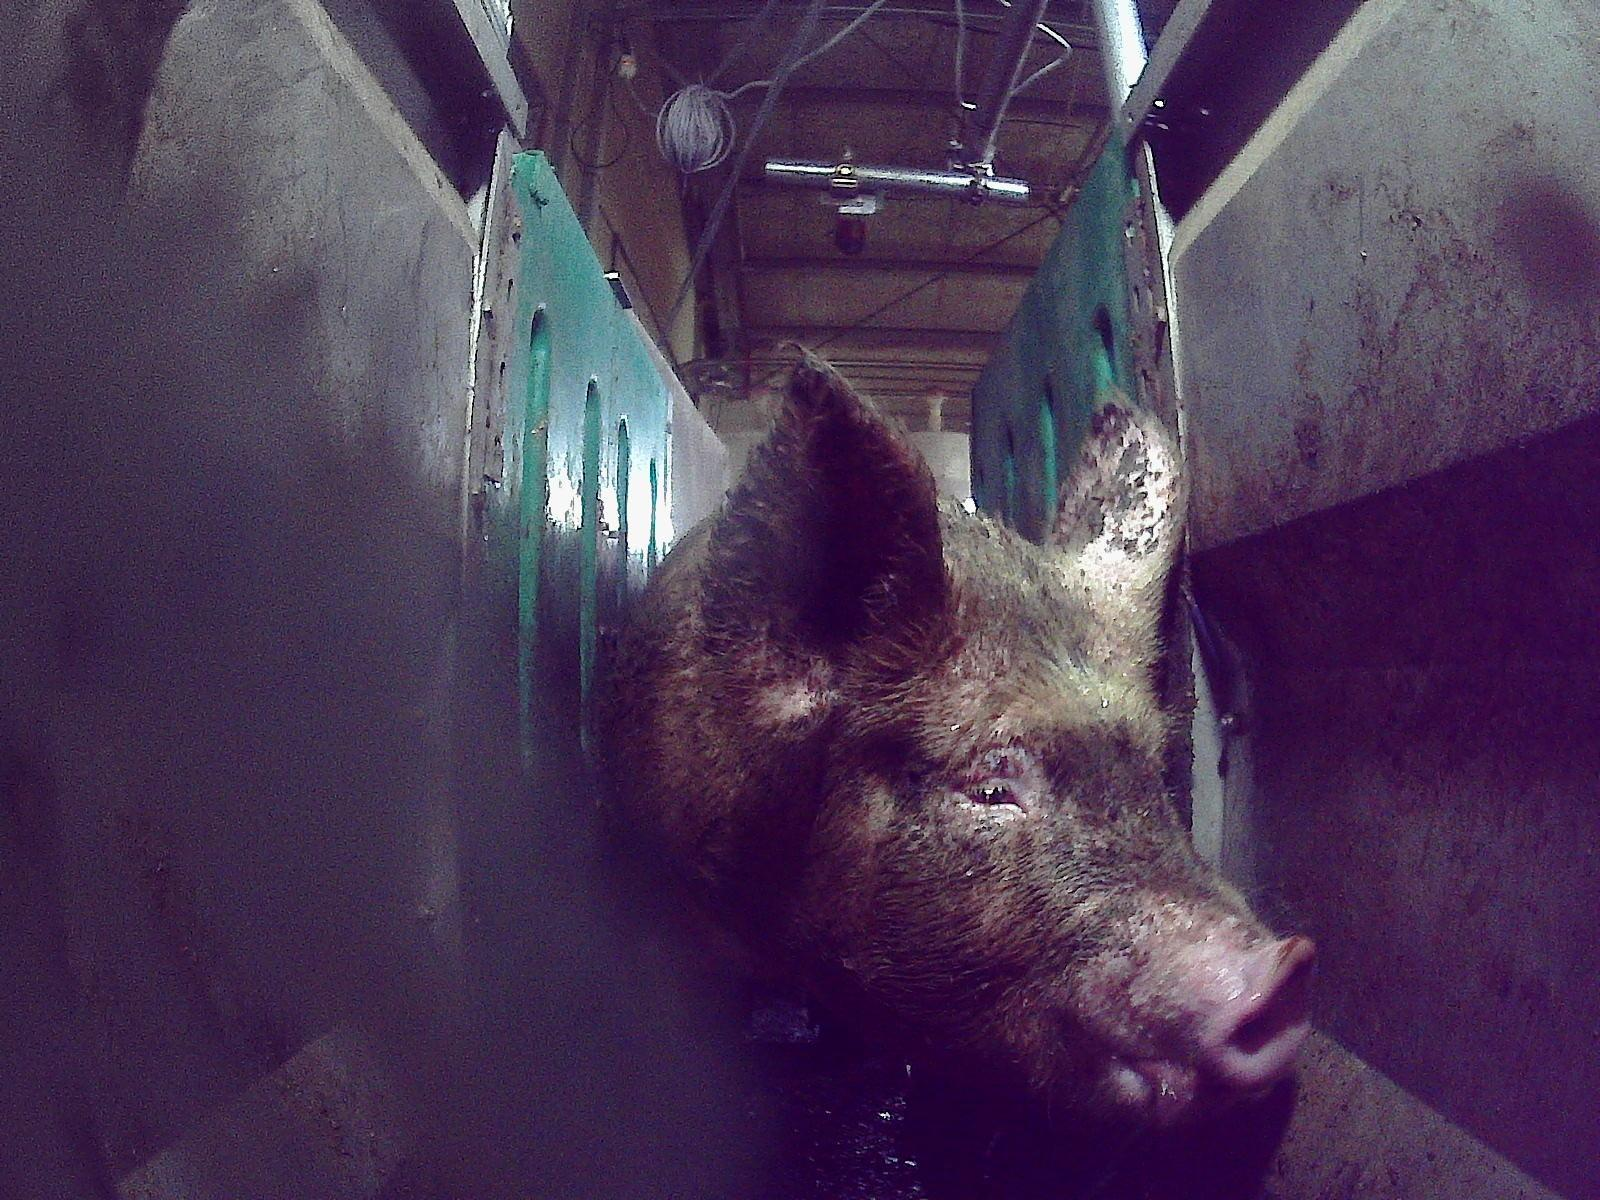Face: (731, 532, 1313, 1137)
